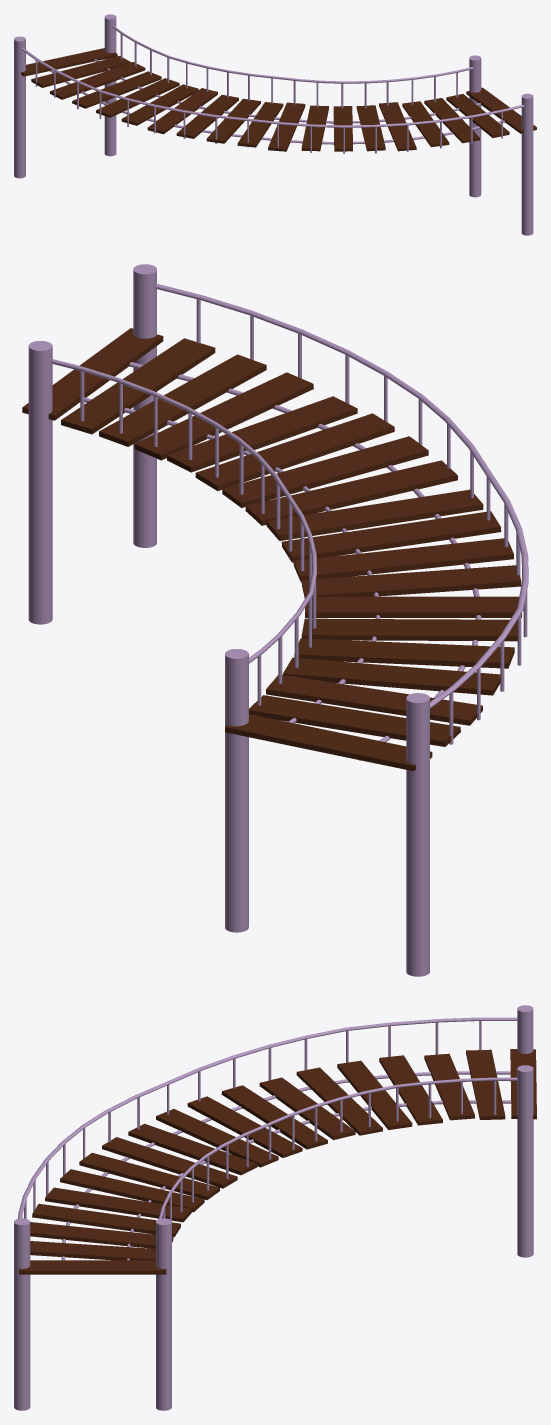
File: curvedBridge.fbx
3 views of the same model, one above another, from view 1: azimuth 30°, elevation 25°; view 2: azimuth 150°, elevation 25°; view 3: azimuth 270°, elevation 25° (orthographic). The views are drawn at different scales.
Parts seen in each view (by area): view 1: Cube.007; view 2: Cube.007; view 3: Cube.007.
Boxes of the visible parts, x1=… form: Cube.007: x1=14, y1=14, x2=536, y2=235; Cube.007: x1=22, y1=264, x2=528, y2=976; Cube.007: x1=14, y1=1005, x2=536, y2=1410.
Size of the model in its own units: 259 by 101 by 258.
